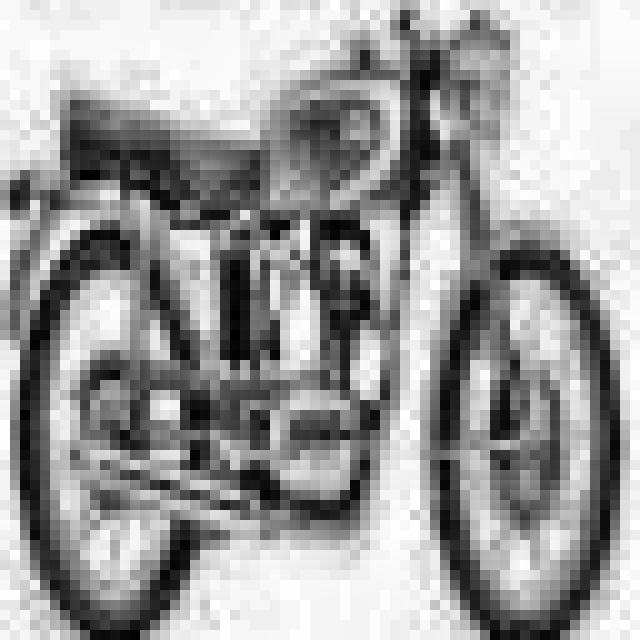mopeds: (0, 26, 628, 640)
